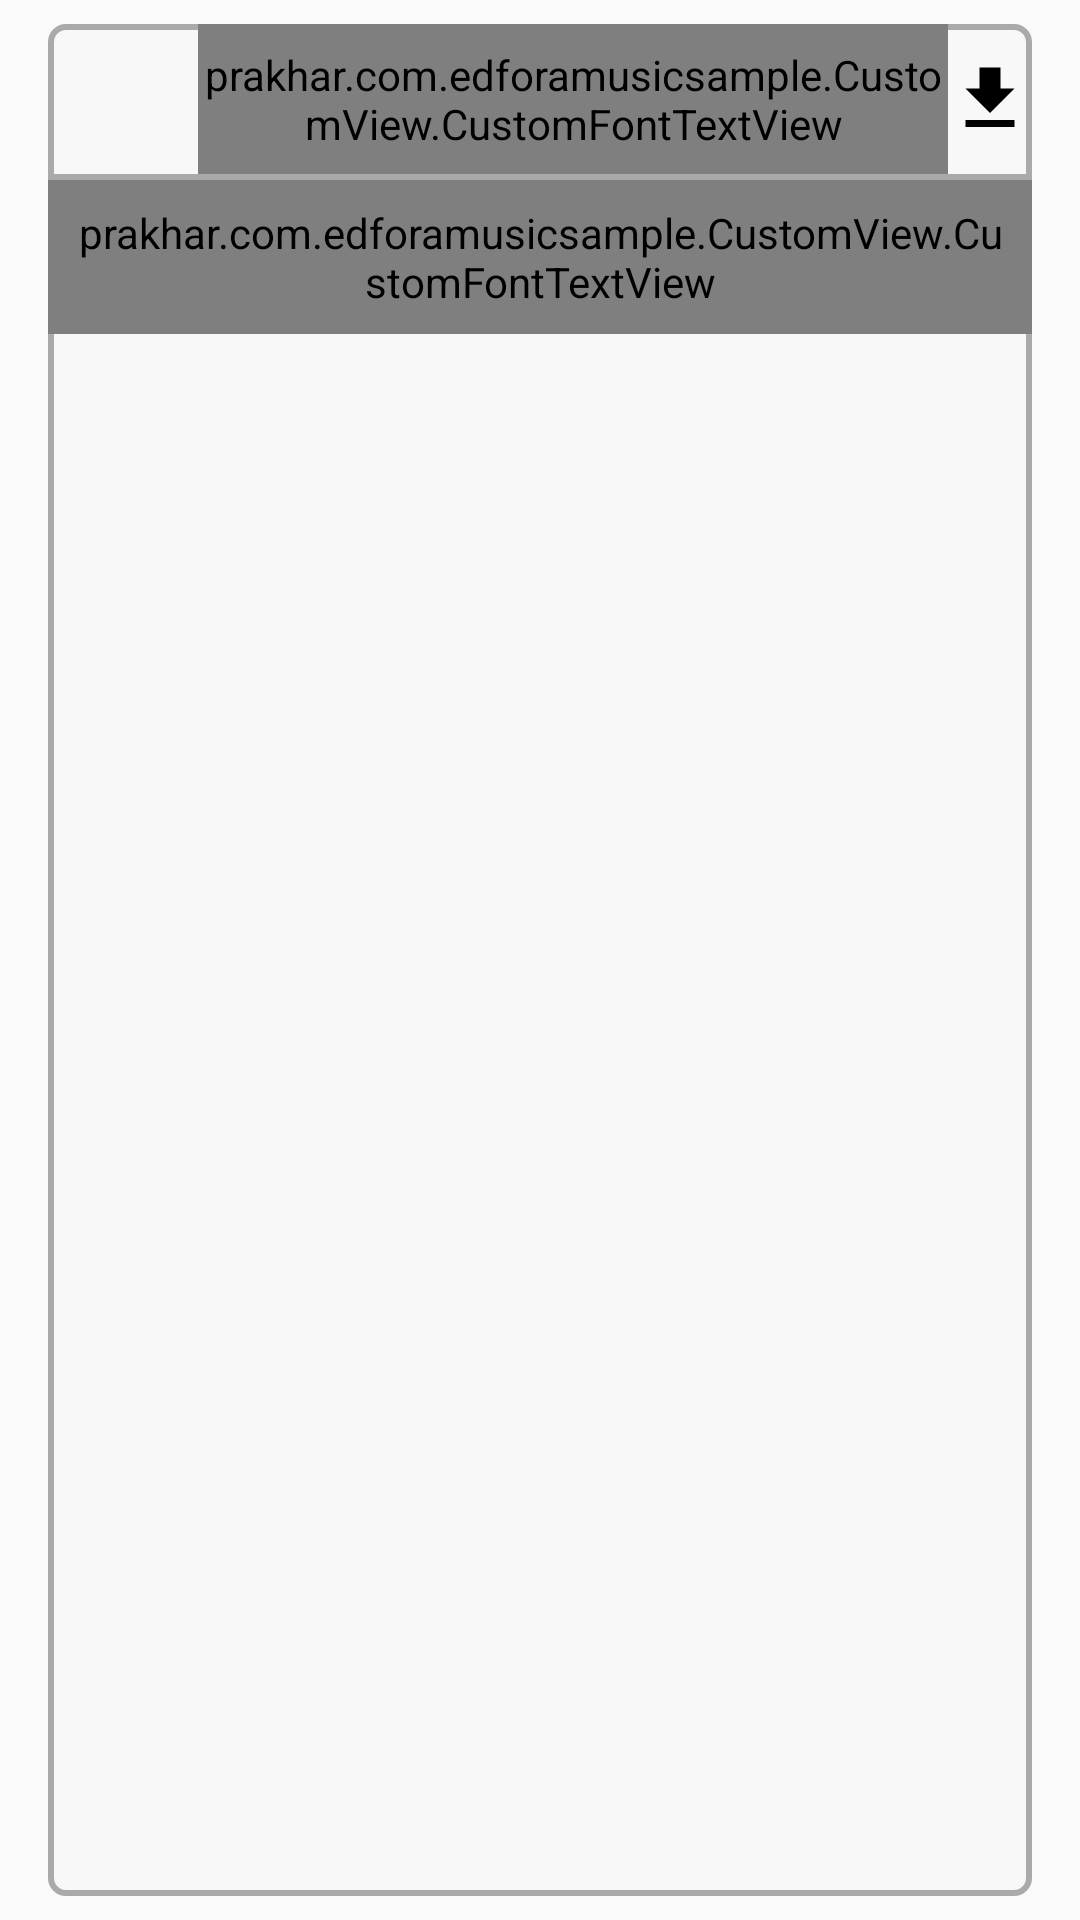

Screen size 1080×1920. Icon name, then its center in pixels as (x,y):
file download: (990,99)
